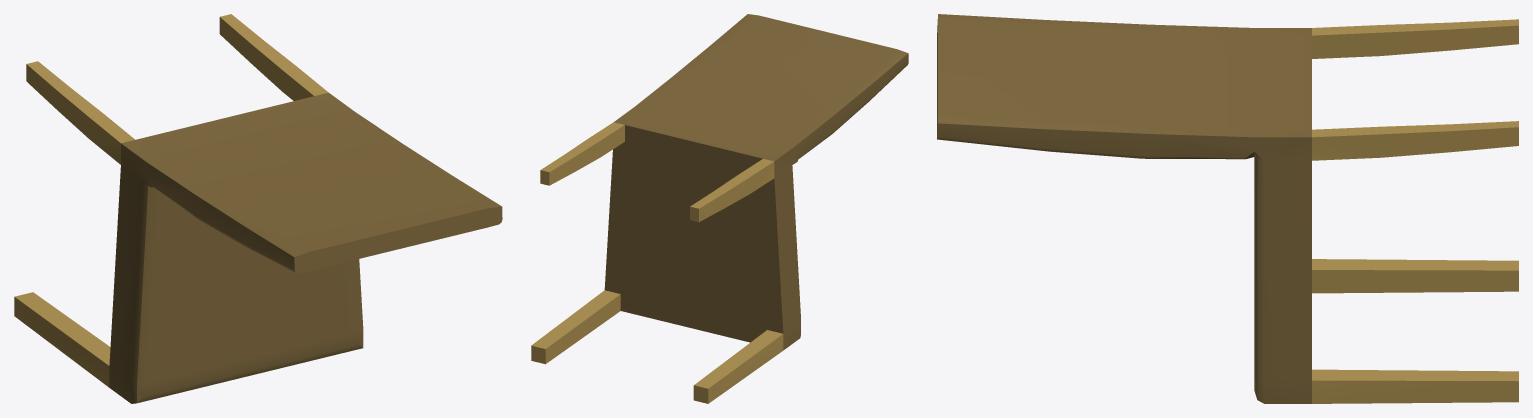
File: chair.obj
3 renders of one model, left to right at view 1: azimuth 30°, elevation 25°; view 2: azimuth 150°, elevation 25°; view 3: azimuth 270°, elevation 25°, orthographic. The views are drawn at different scales.
Parts seen in each view (by area): view 1: Chair; view 2: Chair; view 3: Chair.
Part boxes in pixels (left/top/right/bottom): Chair: left=14, top=14, right=502, bottom=403; Chair: left=531, top=14, right=908, bottom=403; Chair: left=937, top=14, right=1518, bottom=403.
Bounding box in the file's own units: 500 × 530 × 1012.
